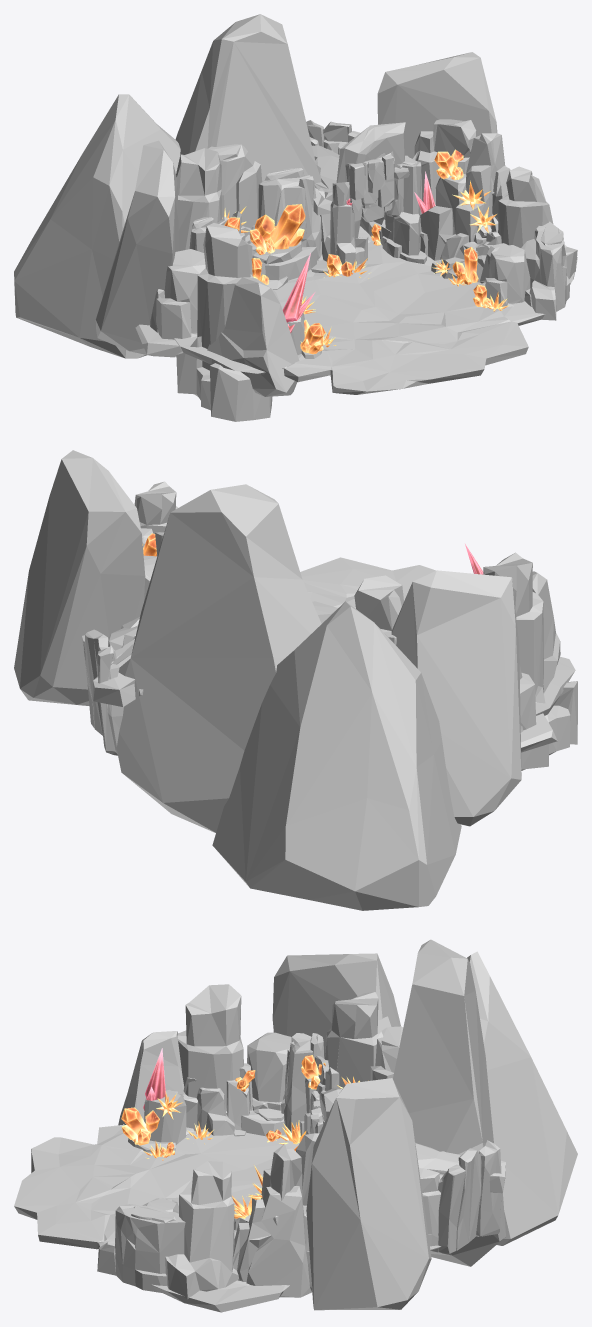
File: stage_dummy.fbx
3 renders of one model, top to bottom at view 1: azimuth 30°, elevation 25°; view 2: azimuth 150°, elevation 25°; view 3: azimuth 270°, elevation 25°, orthographic. The views are drawn at different scales.
Parts seen in each view (by area): view 1: ground, geometry_0.040, geometry_0.029, geometry_0.034, geometry_0.067, geometry_0.046, geometry_0.045, geometry_0.053, geometry_0.064, geometry_0.044, geometry_0.069, geometry_0.063 (+20 smaller); view 2: geometry_0.040, geometry_0.029, geometry_0.034, geometry_0.046, geometry_0.067, ground, geometry_0.059, geometry_0.069, geometry_0.064, geometry_0.042, geometry_0.044, geometry_0.053; view 3: geometry_0.046, ground, geometry_0.029, geometry_0.040, geometry_0.034, geometry_0.044, geometry_0.015, geometry_0.067, geometry_0.063, geometry_0.059, geometry_0.069, geometry_0.064 (+13 smaller).
Part boxes in pixels (box(x1,y1,x2,y2)): ground: box(174, 226, 577, 394); geometry_0.040: box(14, 94, 180, 358); geometry_0.029: box(175, 14, 321, 183); geometry_0.034: box(95, 140, 178, 357); geometry_0.067: box(176, 223, 272, 421); geometry_0.046: box(377, 52, 497, 158); geometry_0.045: box(413, 119, 505, 260); geometry_0.053: box(207, 277, 299, 396); geometry_0.064: box(135, 249, 205, 356); geometry_0.044: box(476, 166, 577, 279); geometry_0.069: box(176, 148, 244, 251); geometry_0.063: box(521, 221, 570, 320); geometry_0.040: box(212, 601, 461, 910); geometry_0.029: box(116, 484, 321, 832); geometry_0.034: box(391, 570, 521, 826); geometry_0.046: box(14, 450, 145, 705); geometry_0.067: box(483, 552, 577, 770); ground: box(300, 557, 575, 715); geometry_0.059: box(82, 629, 123, 755); geometry_0.069: box(354, 575, 403, 644); geometry_0.064: box(519, 665, 557, 752); geometry_0.042: box(93, 617, 143, 706); geometry_0.044: box(134, 481, 177, 533); geometry_0.053: box(532, 571, 560, 692); geometry_0.046: box(306, 1078, 431, 1310); ground: box(14, 1124, 441, 1312); geometry_0.029: box(393, 939, 505, 1266); geometry_0.040: box(467, 951, 577, 1245); geometry_0.034: box(272, 953, 400, 1058); geometry_0.044: box(165, 1161, 238, 1298); geometry_0.015: box(233, 1186, 312, 1297); geometry_0.067: box(177, 984, 243, 1113); geometry_0.063: box(97, 1204, 185, 1292); geometry_0.059: box(438, 1140, 501, 1253); geometry_0.069: box(324, 992, 391, 1087); geometry_0.064: box(241, 1032, 291, 1136).
Size of the model in its own units: 122 by 77.49 by 128.
